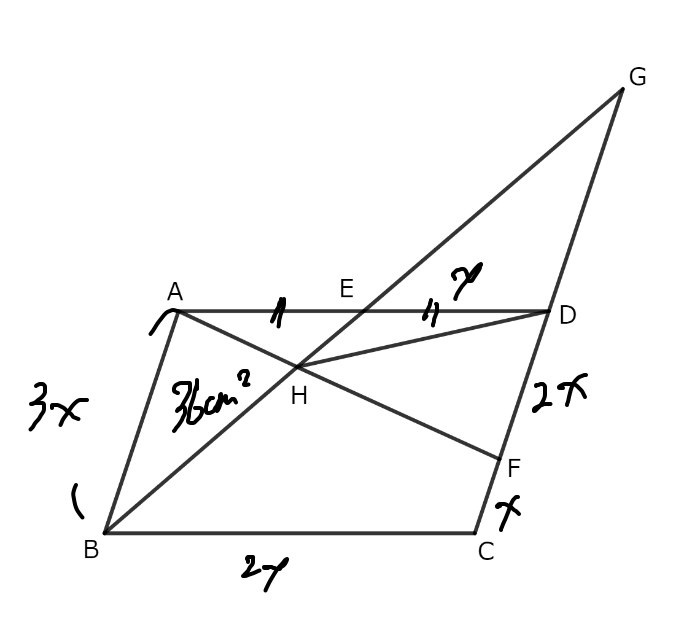Edge_Dline: (417, 297, 450, 334), (270, 291, 292, 330)
